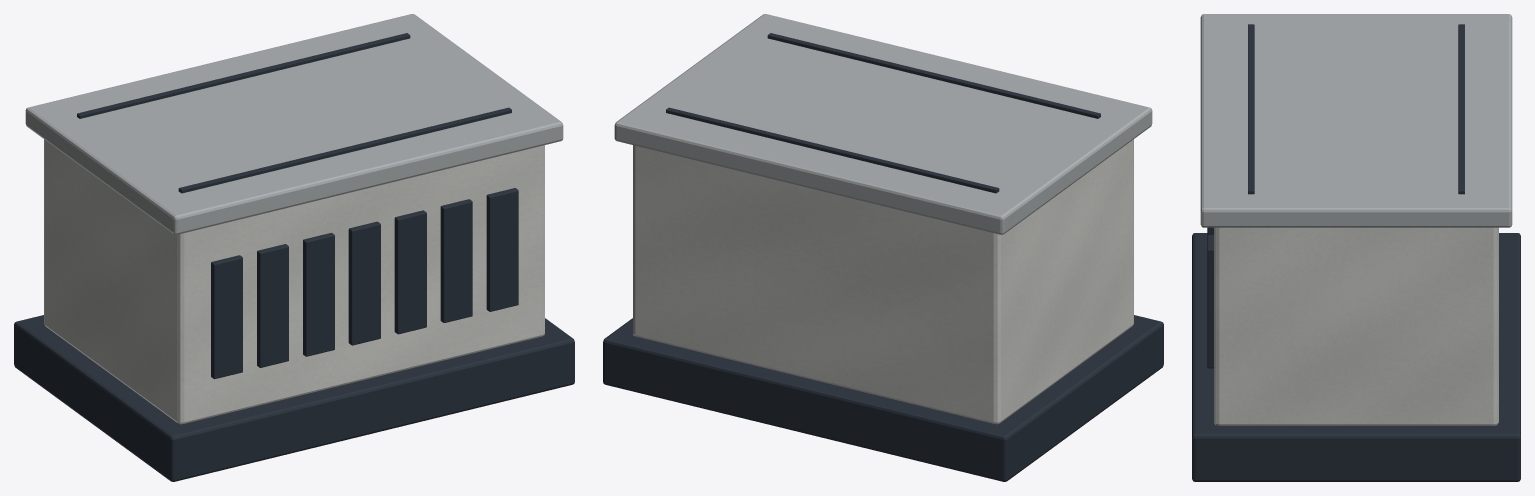
File: rooftop_hvac.glb
The picture shows the model from 3 angles, left to right: view 1: azimuth 30°, elevation 25°; view 2: azimuth 150°, elevation 25°; view 3: azimuth 270°, elevation 25°; orthographic projection. The views are drawn at different scales.
Visible parts, largest first — view 1: HVAC_Housing, HVAC_Roof, HVAC_Plinth, Vent_Louver.005, Vent_Louver.003, Vent_Louver.004, Vent_Louver.006, Vent_Louver, Vent_Louver.002, Vent_Louver.001, Service_Seam, Service_Seam.001; view 2: HVAC_Housing, HVAC_Roof, HVAC_Plinth, Service_Seam.001, Service_Seam; view 3: HVAC_Roof, HVAC_Housing, HVAC_Plinth, Service_Seam, Service_Seam.001, Vent_Louver.006.
Boxes of the visible parts, x1,y1,x2,y2 form: HVAC_Housing: (44,139,544,424); HVAC_Roof: (25,14,563,234); HVAC_Plinth: (14,315,574,481); Vent_Louver.005: (440,199,472,322); Vent_Louver.003: (348,221,380,345); Vent_Louver.004: (394,210,426,334); Vent_Louver.006: (486,188,518,311); Vent_Louver: (211,255,242,379); Vent_Louver.002: (303,232,334,356); Vent_Louver.001: (257,244,288,367); Service_Seam: (178,107,511,193); Service_Seam.001: (77,33,410,118); HVAC_Housing: (633,139,1133,424); HVAC_Roof: (614,14,1152,234); HVAC_Plinth: (603,315,1163,481); Service_Seam.001: (666,107,999,193); Service_Seam: (767,33,1100,118); HVAC_Roof: (1200,14,1512,227); HVAC_Housing: (1214,227,1498,425); HVAC_Plinth: (1192,233,1520,481); Service_Seam: (1248,24,1254,194); Service_Seam.001: (1458,24,1464,194); Vent_Louver.006: (1207,235,1213,368).
Bounding box in the file's own units: 2.2 × 1.38 × 1.5.
Materials: 3 (1 with a texture image).
